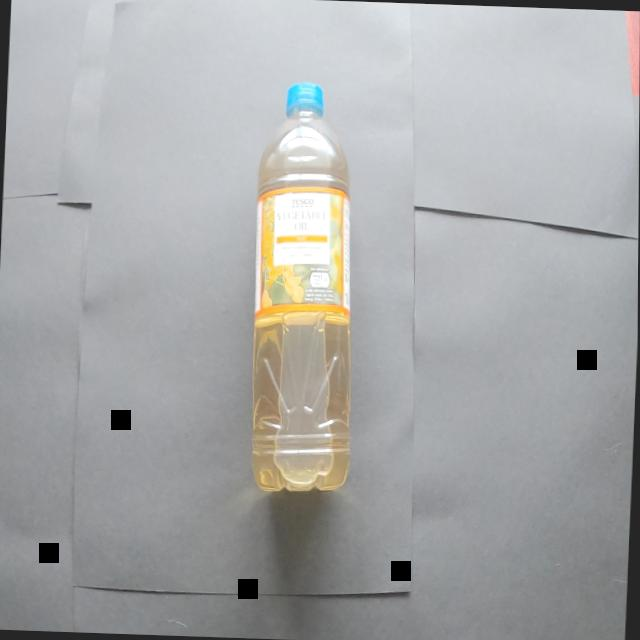Vegetableoil: (222, 54, 388, 526)
